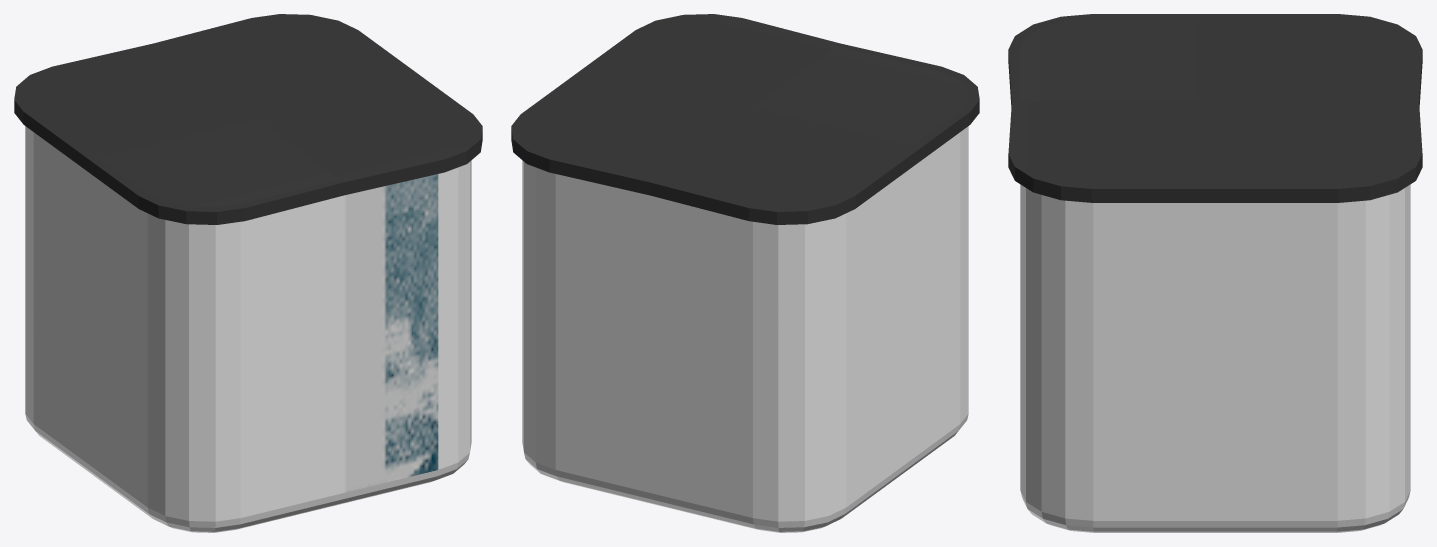
File: Sugar con UV.fbx
3 renders of one model, left to right at view 1: azimuth 30°, elevation 25°; view 2: azimuth 150°, elevation 25°; view 3: azimuth 270°, elevation 25°, orthographic. The views are drawn at different scales.
Visible parts, largest first — view 1: Salt and Sugar cups; view 2: Salt and Sugar cups; view 3: Salt and Sugar cups.
Part boxes in pixels (x1,y1,x2,y2): Salt and Sugar cups: (14,14,482,532); Salt and Sugar cups: (511,14,979,532); Salt and Sugar cups: (1008,14,1422,532).
Size of the model in its own units: 57.68 by 54.75 by 57.68.
